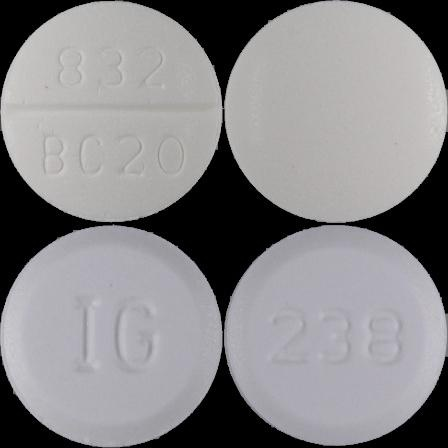35356-736: (0, 0, 224, 224)
